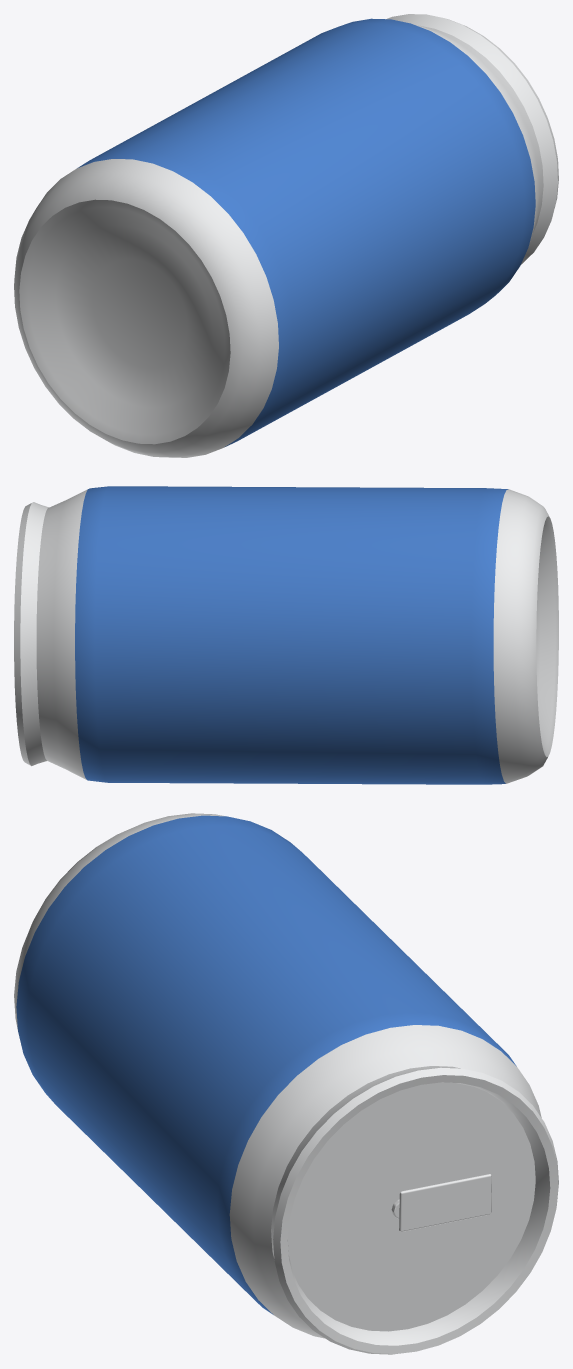
File: kitchen_can_c.fbx
3 renders of one model, top to bottom at view 1: azimuth 30°, elevation 25°; view 2: azimuth 150°, elevation 25°; view 3: azimuth 270°, elevation 25°, orthographic. The views are drawn at different scales.
Parts seen in each view (by area): view 1: kitchen_can_c; view 2: kitchen_can_c; view 3: kitchen_can_c.
Boxes of the visible parts, x1,y1,x2,y2 form: kitchen_can_c: (14, 14, 558, 457); kitchen_can_c: (14, 486, 558, 784); kitchen_can_c: (14, 813, 558, 1354).
Bounding box in the file's own units: 0.1289 × 0.0689 × 0.1016.
